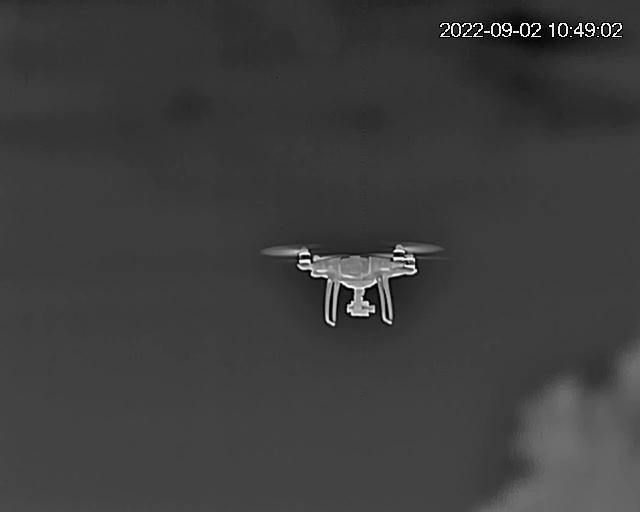DJI-Phantom: (259, 238, 450, 328)
